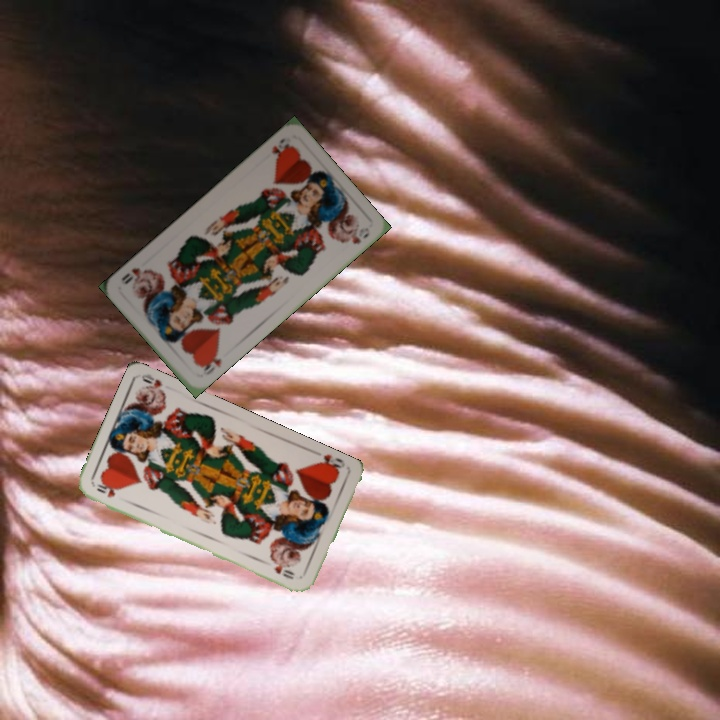HO: (313, 450, 348, 476), (196, 347, 224, 378), (267, 134, 295, 162), (92, 479, 118, 500)
